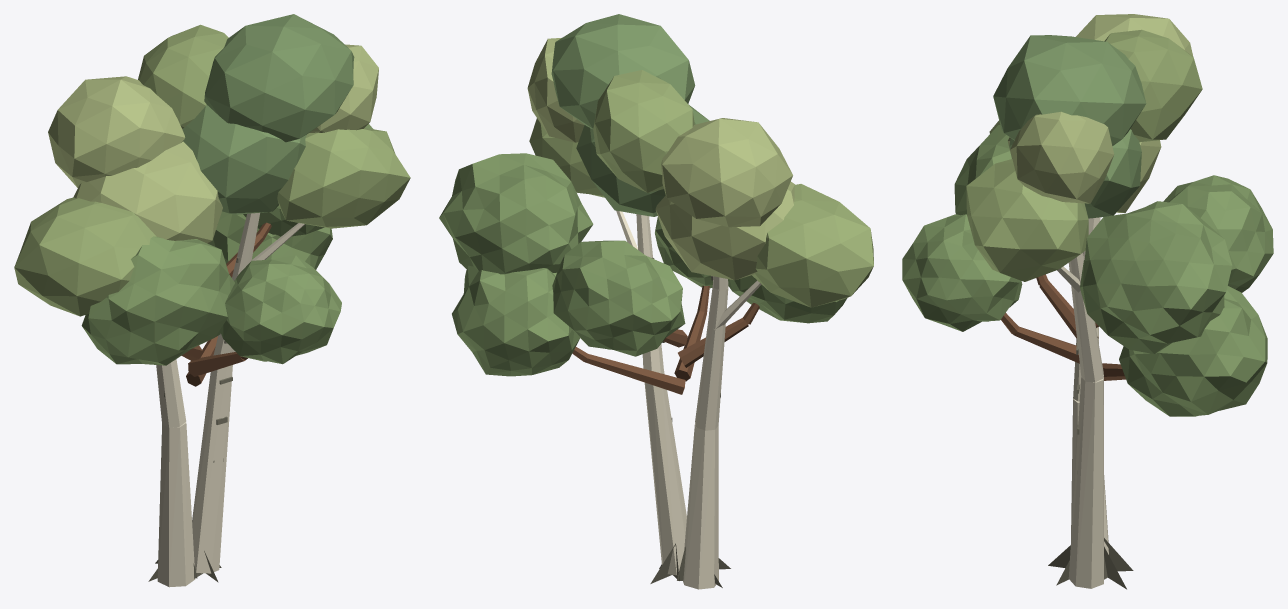
Rendered from birch_3.glb.
The picture shows the model from 3 angles, left to right: view 1: azimuth 30°, elevation 25°; view 2: azimuth 150°, elevation 25°; view 3: azimuth 270°, elevation 25°; orthographic projection. The views are drawn at different scales.
Parts seen in each view (by area): view 1: foliage-0, foliage-2, foliage-1, surface; view 2: foliage-1, foliage-0, foliage-2, surface; view 3: foliage-0, foliage-2, foliage-1, surface.
Part boxes in pixels (x1=…): foliage-0: x1=14, y1=24, x2=410, y2=365; foliage-2: x1=182, y1=14, x2=354, y2=364; foliage-1: x1=48, y1=44, x2=378, y2=243; surface: x1=148, y1=212, x2=304, y2=587; foliage-1: x1=439, y1=38, x2=794, y2=280; foliage-0: x1=452, y1=70, x2=873, y2=376; foliage-2: x1=551, y1=14, x2=712, y2=356; surface: x1=572, y1=210, x2=761, y2=589; foliage-0: x1=954, y1=29, x2=1267, y2=416; foliage-2: x1=902, y1=35, x2=1273, y2=331; foliage-1: x1=1007, y1=14, x2=1232, y2=353; surface: x1=1001, y1=217, x2=1133, y2=589.
Bounding box in the file's own units: 5.84 × 7.62 × 4.41.
